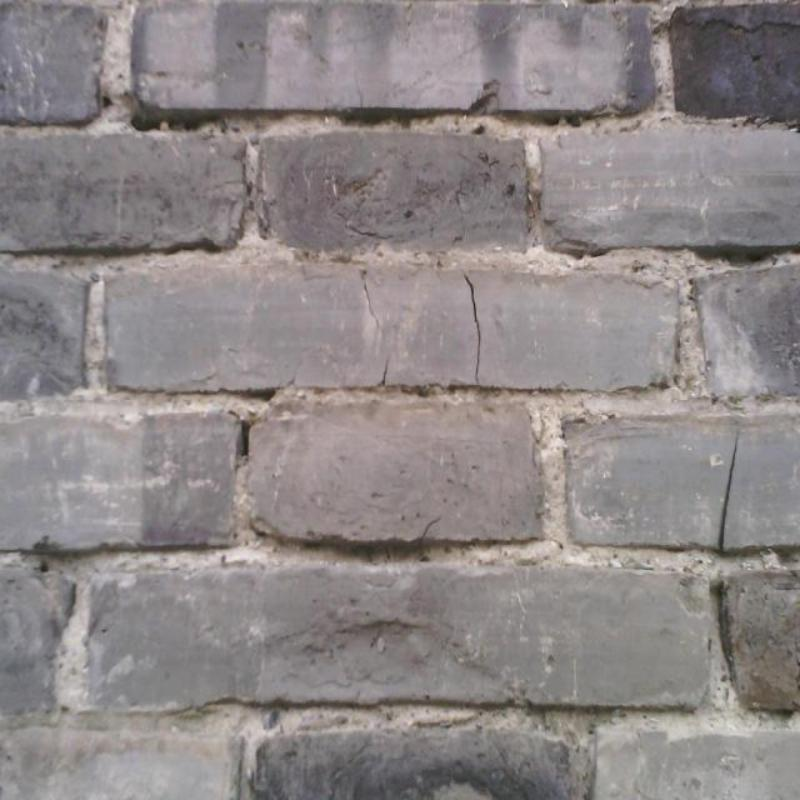pothole: (718, 429, 737, 550), (464, 273, 480, 384), (358, 270, 383, 333), (422, 516, 440, 538), (240, 421, 251, 455), (132, 118, 160, 131), (376, 360, 388, 387), (746, 252, 765, 261)
